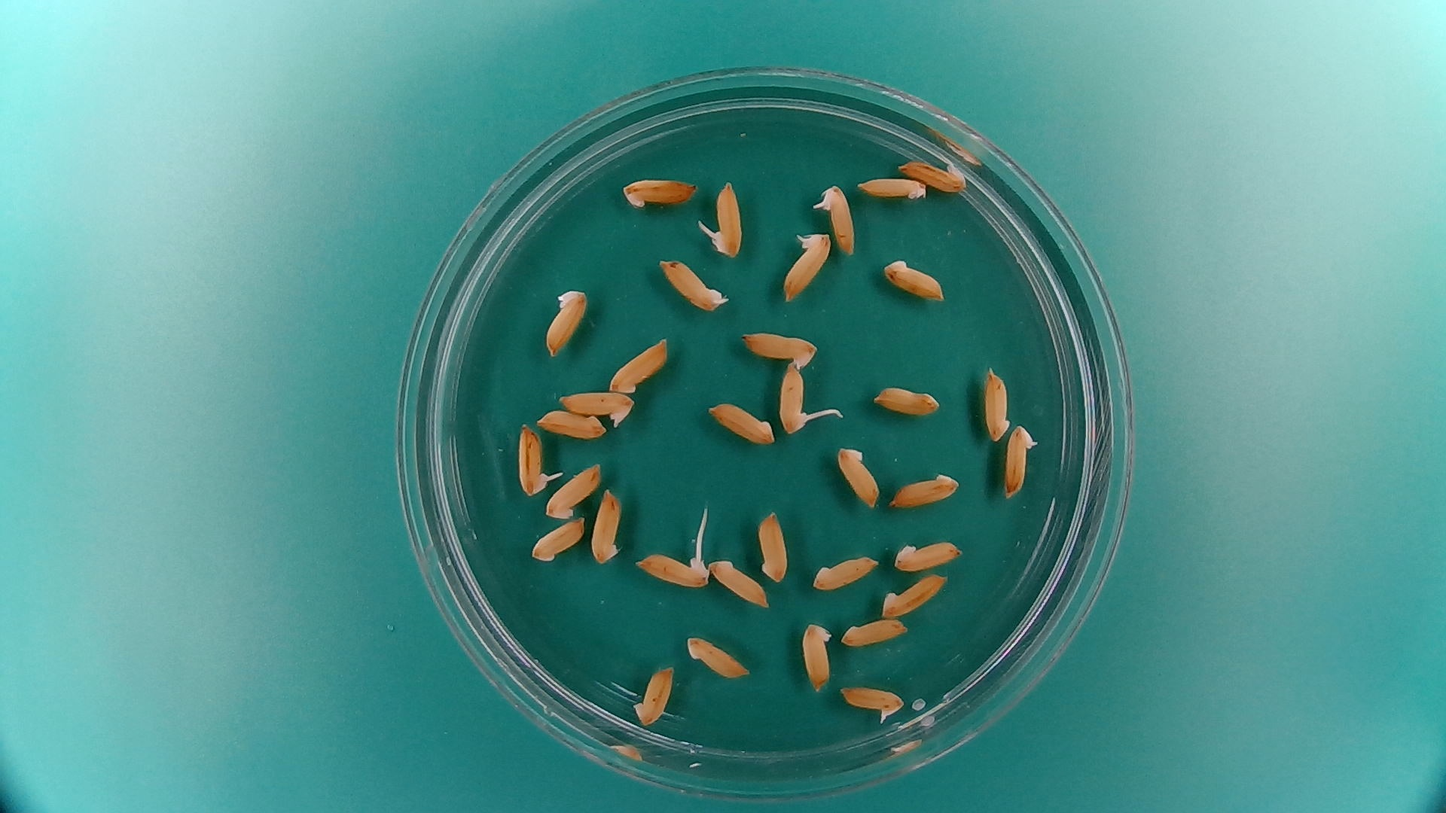no: (654, 260, 730, 315), (607, 333, 672, 396), (541, 282, 592, 361), (707, 553, 770, 613), (543, 461, 604, 522), (737, 326, 821, 370), (704, 397, 777, 446), (878, 571, 950, 619), (806, 552, 885, 595), (834, 441, 883, 510), (684, 632, 752, 681), (880, 254, 948, 303), (618, 172, 701, 212), (588, 486, 626, 570), (528, 515, 590, 565), (630, 662, 676, 729), (885, 471, 960, 511), (755, 506, 792, 586), (799, 618, 836, 694), (891, 536, 965, 574), (896, 155, 968, 194), (871, 382, 944, 419), (533, 406, 607, 441), (837, 616, 910, 650), (982, 363, 1012, 444), (855, 172, 929, 203)
yes: (779, 226, 834, 306), (816, 179, 859, 257), (556, 387, 635, 428), (635, 547, 711, 589), (514, 421, 554, 499), (836, 681, 908, 724), (1002, 422, 1040, 502), (776, 360, 813, 437), (711, 176, 747, 255)
